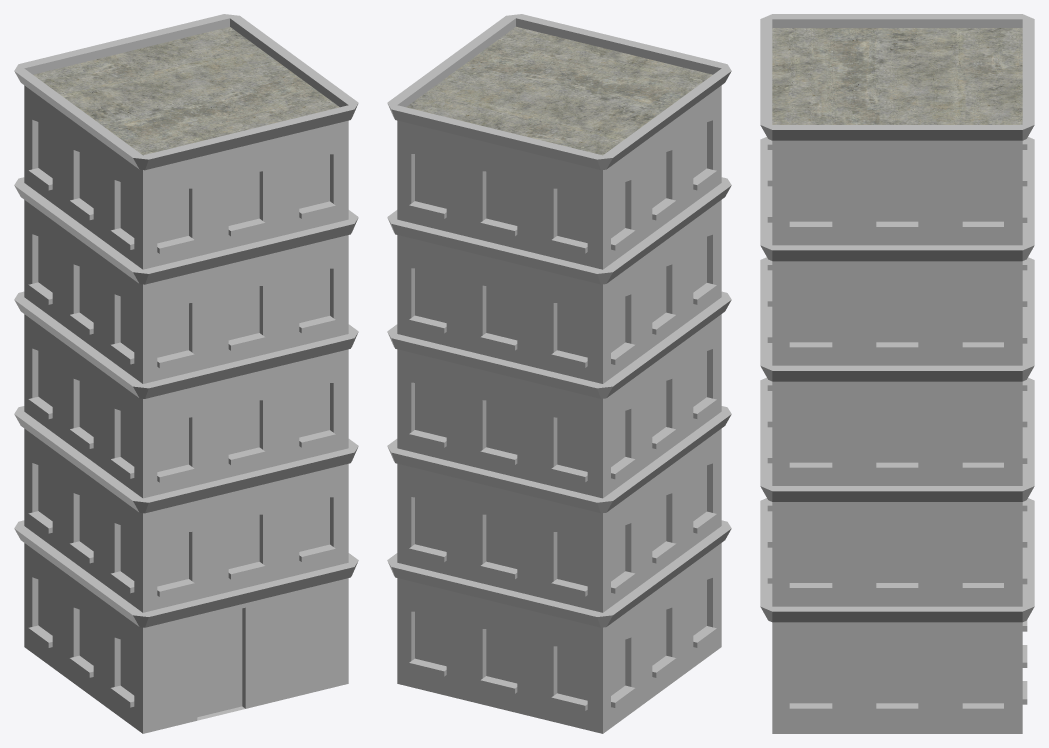
The model's file is DT_Building_Type_02_02.fbx.
3 renders of one model, left to right at view 1: azimuth 30°, elevation 25°; view 2: azimuth 150°, elevation 25°; view 3: azimuth 270°, elevation 25°, orthographic. The views are drawn at different scales.
Visible parts, largest first — view 1: DT_Building_Type_02_02; view 2: DT_Building_Type_02_02; view 3: DT_Building_Type_02_02.
Boxes of the visible parts, box(x1,y1,x2,y2) form: DT_Building_Type_02_02: box(14, 14, 358, 733); DT_Building_Type_02_02: box(387, 14, 731, 733); DT_Building_Type_02_02: box(760, 14, 1034, 733).
Size of the model in its own units: 562 by 1376 by 562.
